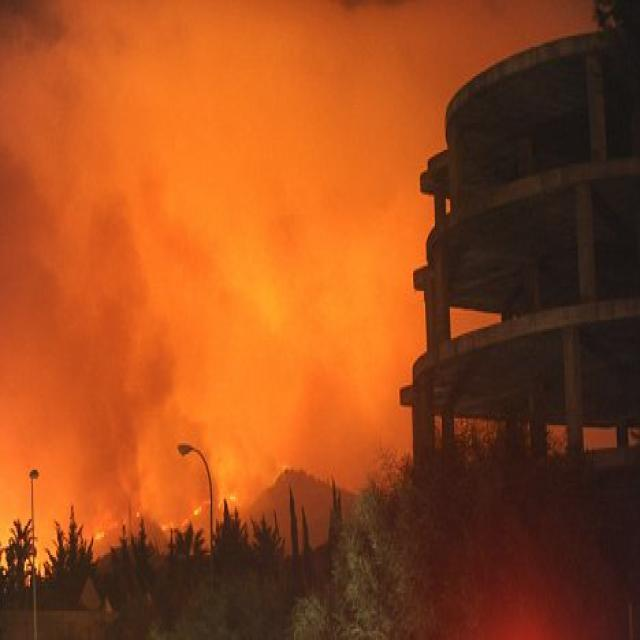Smoke: (0, 0, 194, 535)
